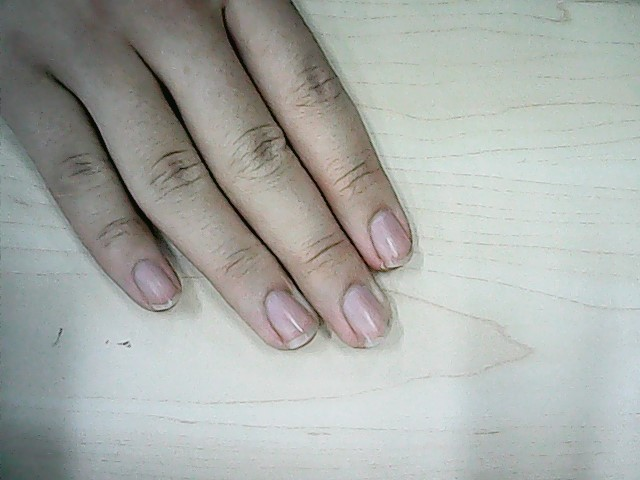nail: (344, 290, 392, 349), (371, 213, 415, 270), (269, 295, 314, 346), (134, 265, 174, 311)
